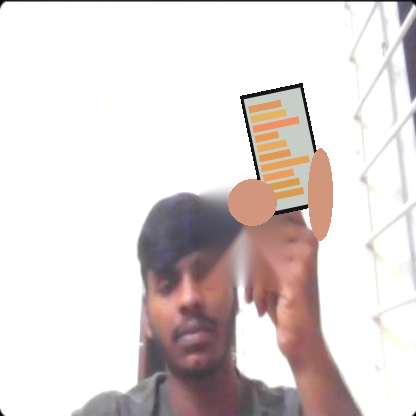cell_phone: (240, 83, 328, 217)
